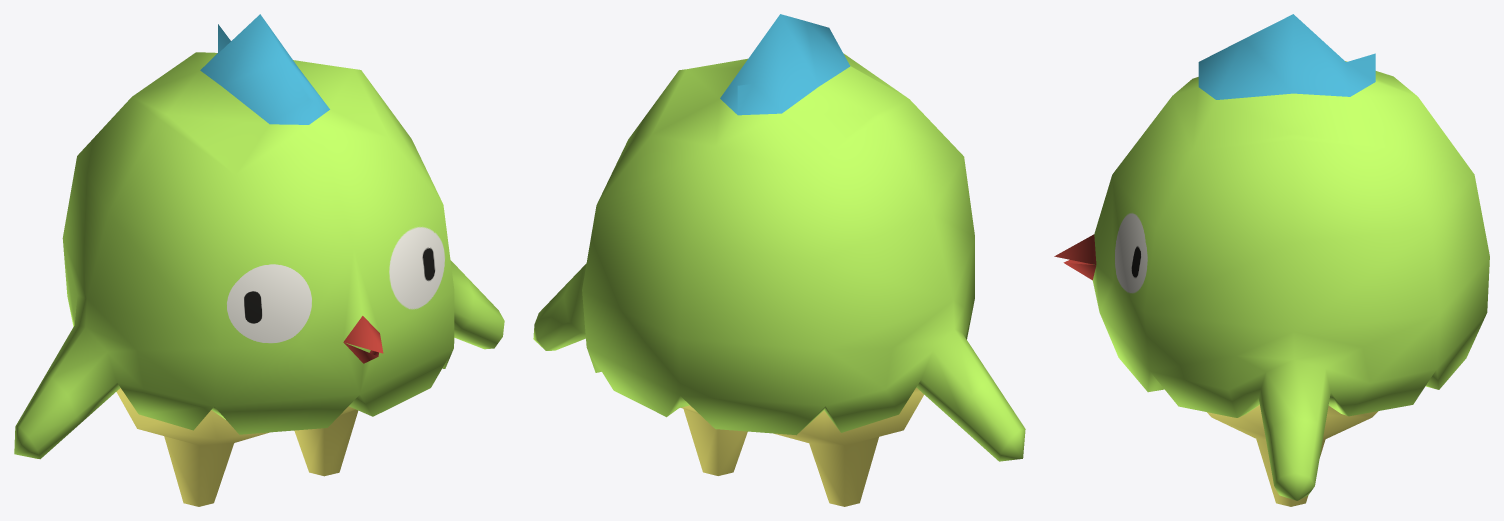
The model's file is chicpea_xanh.glb.
3 views of the same model, side by side, from view 1: azimuth 30°, elevation 25°; view 2: azimuth 150°, elevation 25°; view 3: azimuth 270°, elevation 25° (orthographic). The views are drawn at different scales.
Parts seen in each view (by area): view 1: Roundcube.002; view 2: Roundcube.002; view 3: Roundcube.002.
Boxes of the visible parts, box(x1,y1,x2,y2) form: Roundcube.002: box(14, 14, 504, 506); Roundcube.002: box(533, 14, 1025, 506); Roundcube.002: box(1054, 14, 1489, 506).
Size of the model in its own units: 1.74 by 1.6 by 1.39.
Materials: 5 (1 with a texture image).
